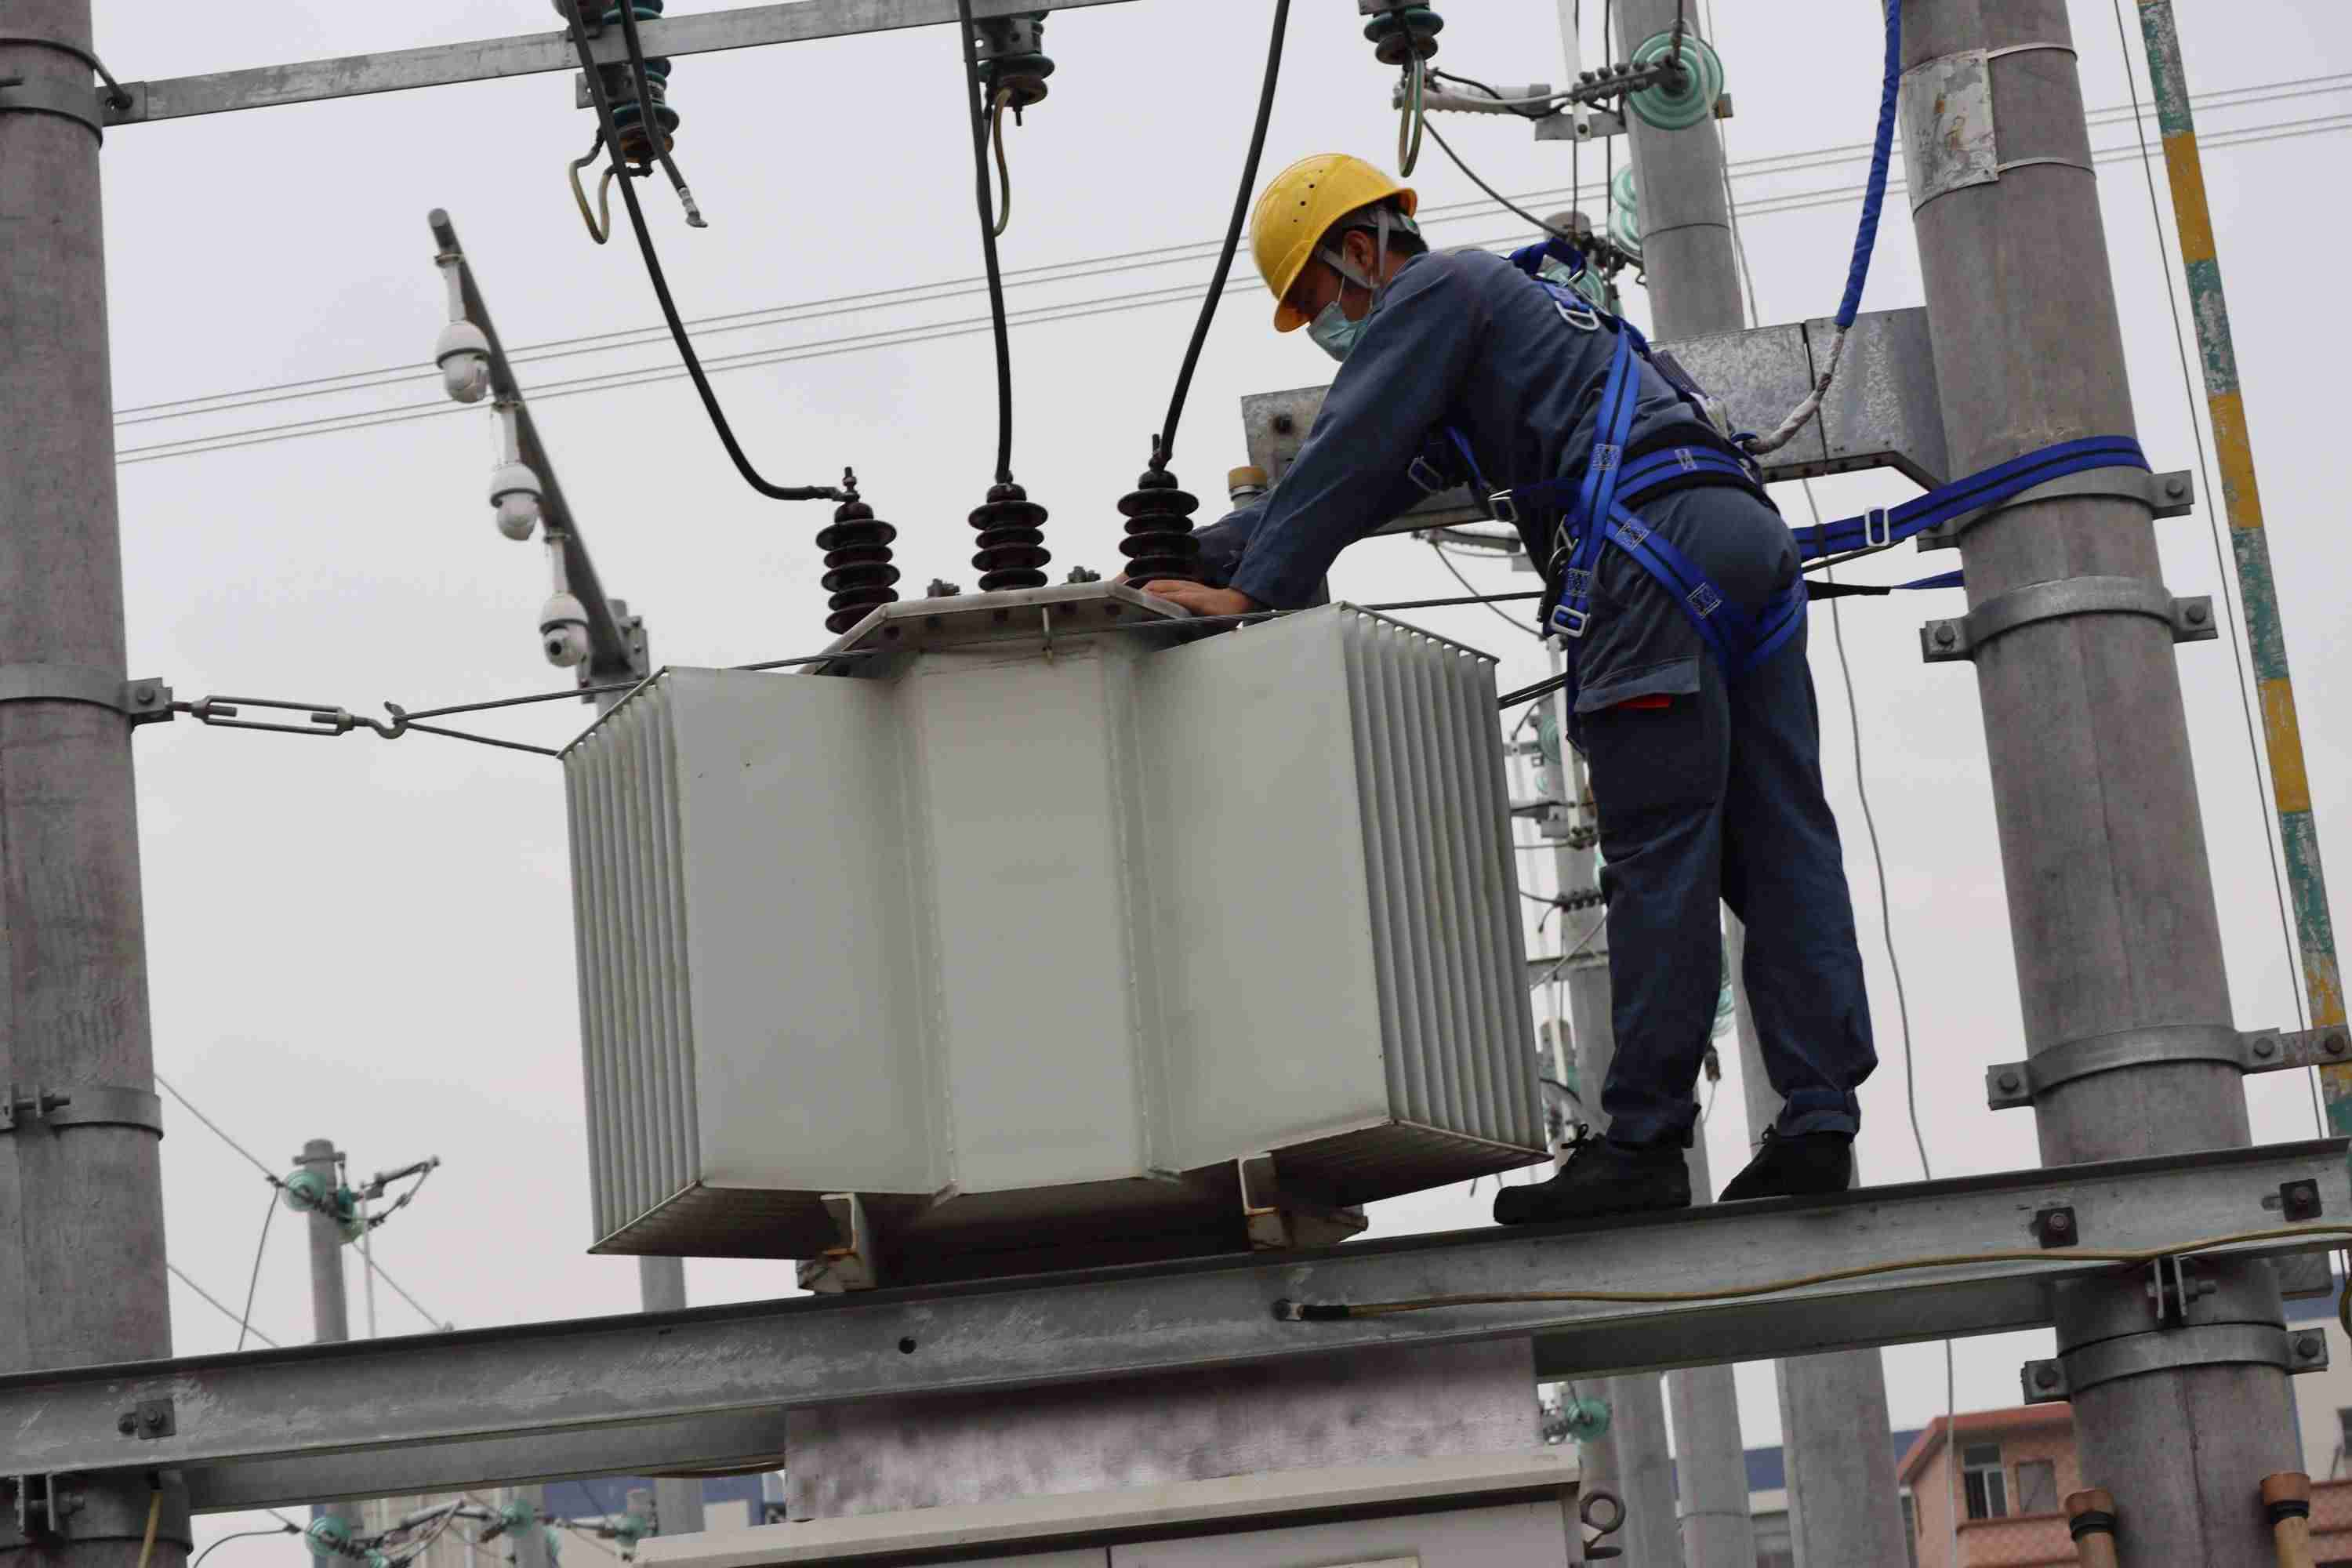downsuit: (1556, 513, 1888, 1132)
upsuit: (1202, 247, 1738, 546)
